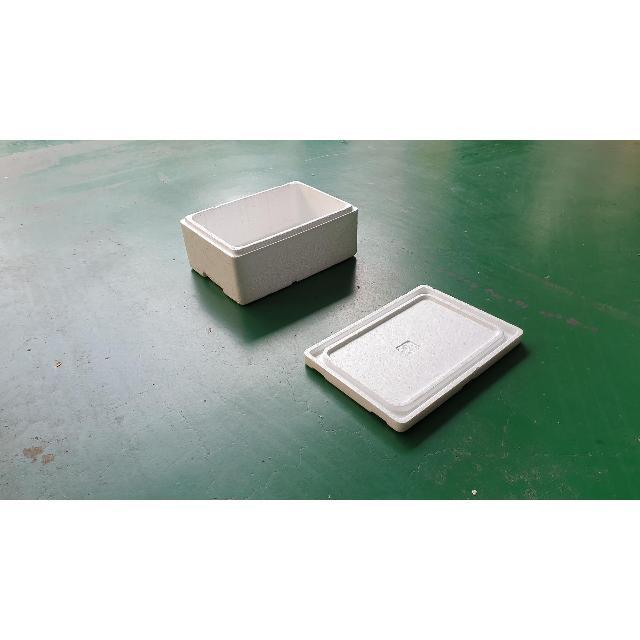Recipiente plastico: (305, 285, 522, 431), (181, 181, 356, 304)
